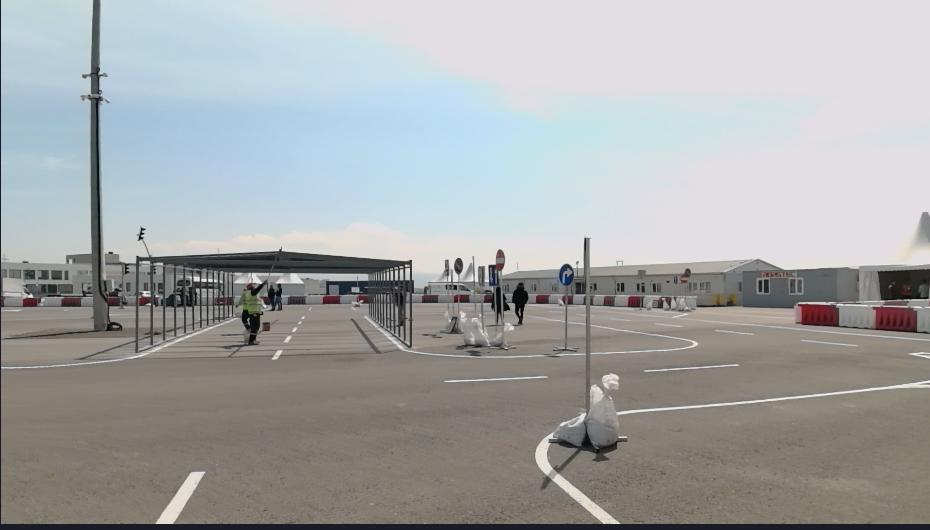nesne: (0, 301, 623, 525), (149, 302, 621, 524), (0, 304, 314, 528), (0, 315, 237, 371), (616, 379, 928, 414), (363, 315, 585, 357), (531, 429, 623, 526), (673, 310, 928, 344), (792, 300, 927, 332), (590, 323, 698, 355), (152, 469, 204, 522), (586, 373, 620, 448), (232, 279, 268, 345), (551, 406, 586, 448), (643, 358, 738, 373), (445, 372, 547, 385), (875, 305, 919, 332), (798, 301, 838, 327), (838, 302, 875, 328), (591, 294, 660, 307), (3, 295, 92, 304), (511, 281, 530, 323), (412, 292, 484, 302), (491, 286, 510, 323), (799, 337, 856, 348), (713, 326, 755, 337), (557, 264, 574, 285), (918, 306, 929, 330), (274, 281, 283, 308), (643, 294, 659, 309), (40, 296, 61, 306), (4, 296, 24, 306), (304, 294, 324, 304), (267, 283, 275, 307), (613, 294, 629, 306), (320, 293, 339, 303), (495, 251, 505, 270), (339, 294, 359, 303), (62, 296, 80, 305), (668, 294, 678, 310), (548, 293, 563, 303), (468, 293, 484, 302), (269, 350, 282, 361), (591, 294, 605, 304), (437, 294, 454, 302), (24, 297, 39, 306), (80, 296, 95, 305), (290, 295, 305, 304), (679, 296, 690, 308), (536, 293, 549, 303), (454, 293, 468, 302), (108, 297, 121, 306), (629, 296, 642, 305), (573, 293, 584, 303), (659, 295, 669, 306), (281, 334, 293, 343), (679, 274, 689, 284), (123, 295, 134, 304), (423, 296, 437, 302), (140, 296, 149, 305), (413, 294, 422, 303), (605, 296, 614, 305), (289, 326, 299, 334), (529, 293, 536, 303), (564, 296, 572, 304), (295, 320, 302, 326)
